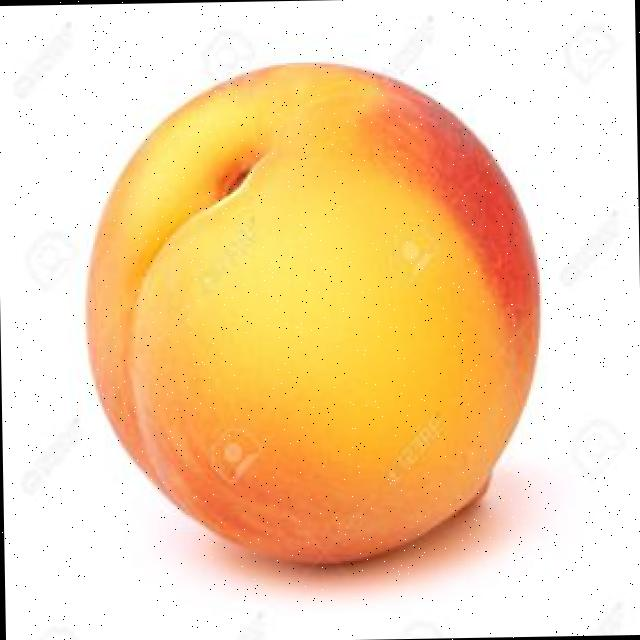peach: (88, 64, 537, 562), (88, 66, 537, 562)
